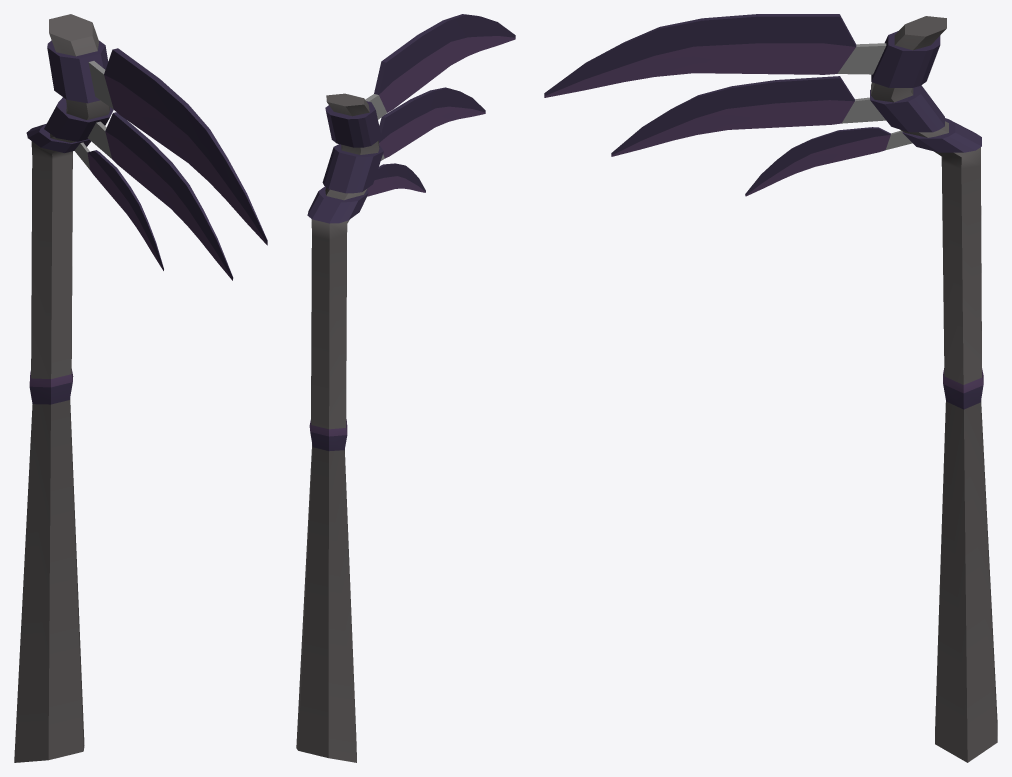
The picture shows the model from 3 angles, left to right: view 1: azimuth 30°, elevation 25°; view 2: azimuth 150°, elevation 25°; view 3: azimuth 270°, elevation 25°; orthographic projection. The views are drawn at different scales.
Parts seen in each view (by area): view 1: Asa4; view 2: Asa4; view 3: Asa4.
Boxes of the visible parts, x1,y1,x2,y2 form: Asa4: (14, 14, 267, 762); Asa4: (296, 14, 515, 762); Asa4: (544, 14, 997, 762).
Bounding box in the file's own units: 15.06 × 154 × 86.72.
